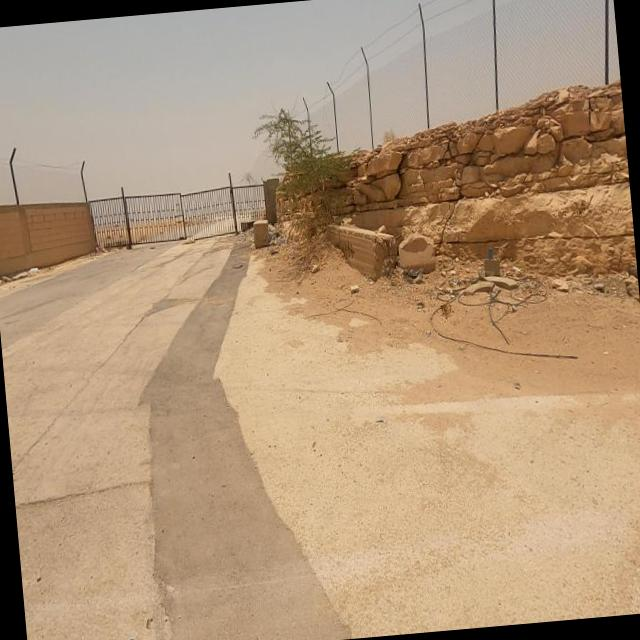debris: (364, 195, 609, 418), (9, 236, 67, 308)
